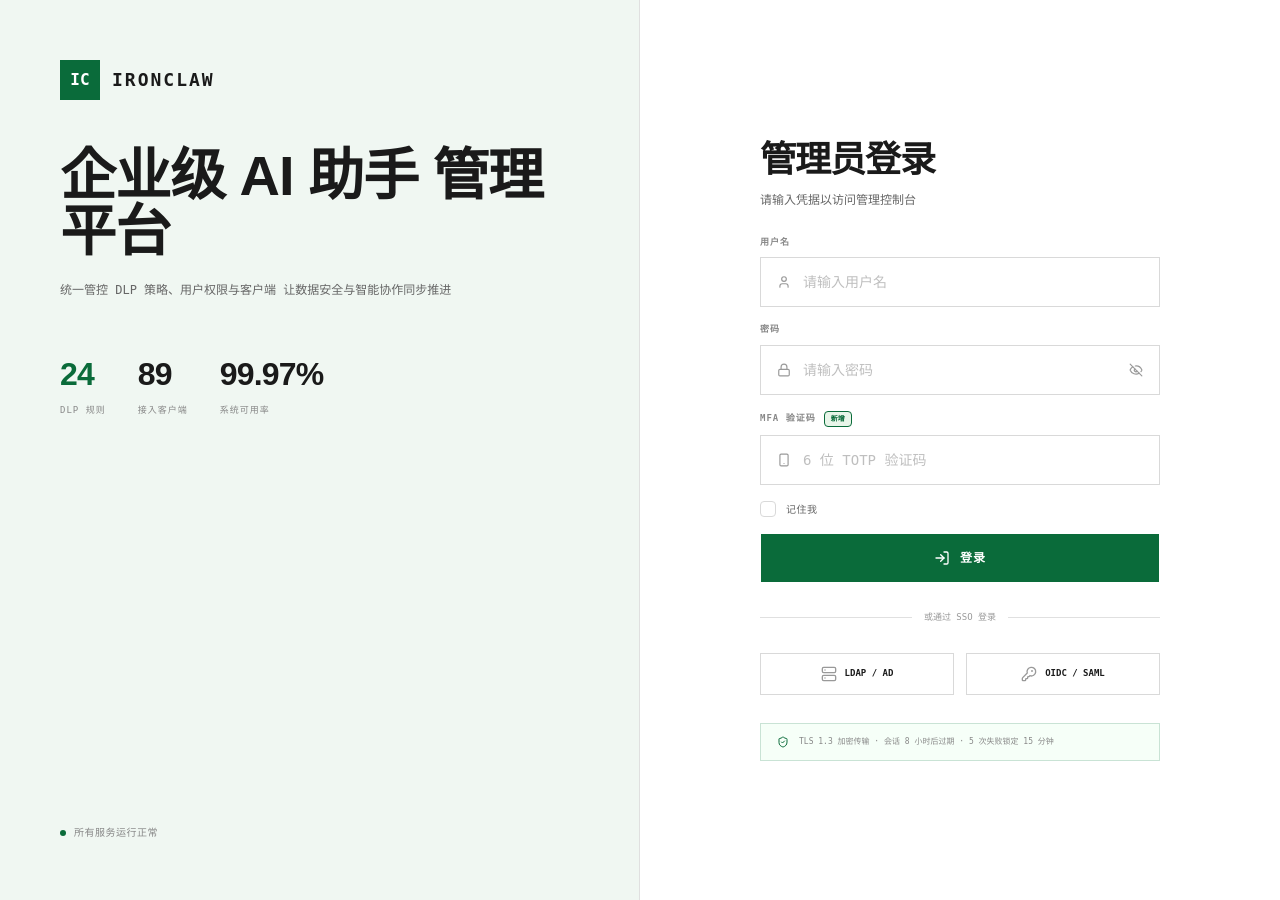
Test: LoginPage › 空密码提交时应显示验证错误
This screenshot has width=1280, height=900.
Type "admin" into the field with placeholder "请输入用户名".
click(973, 282); type("admin")  # box x1=803 y1=272 x2=1143 y2=292
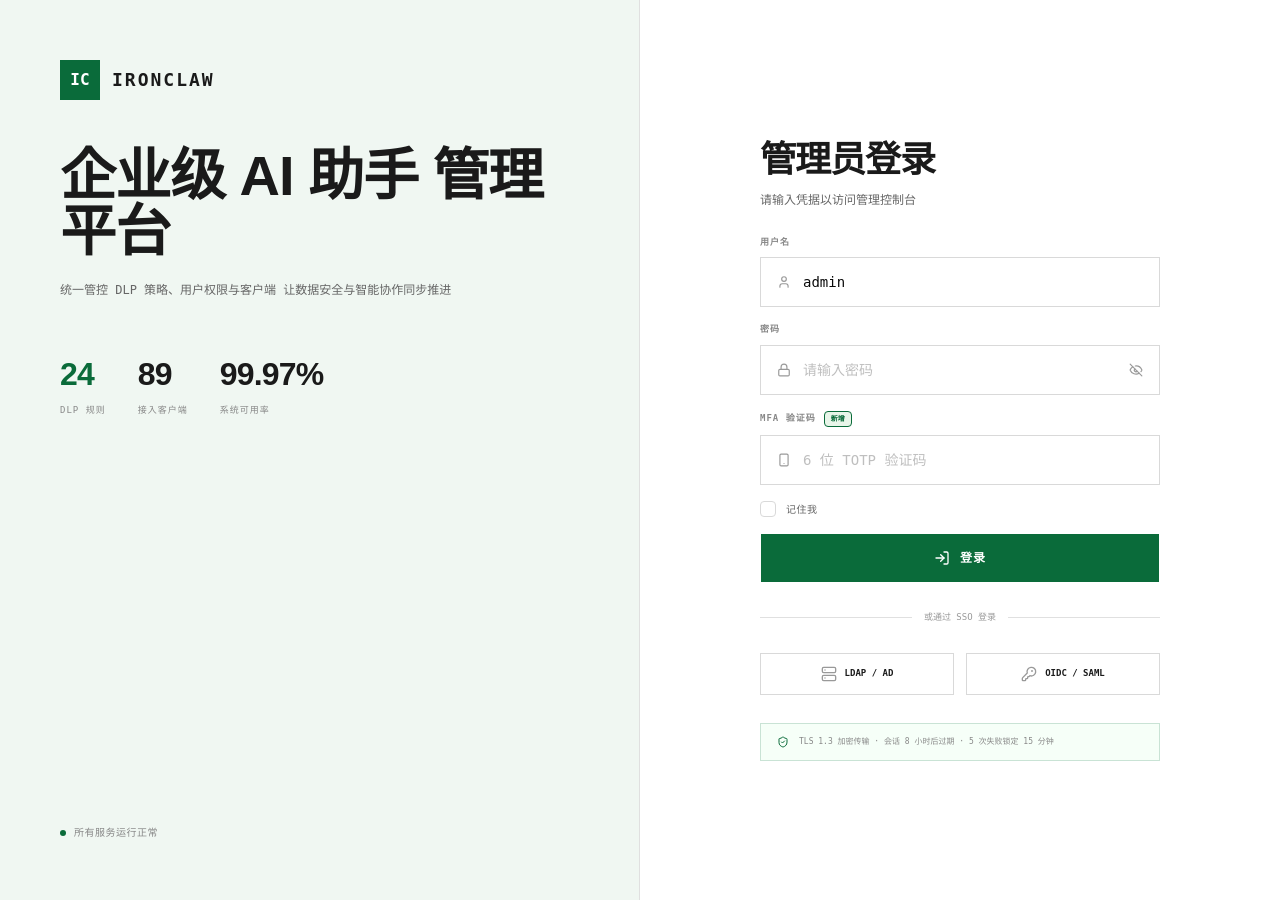
Click the button "登录".
click(960, 558)  # box x1=760 y1=533 x2=1160 y2=583
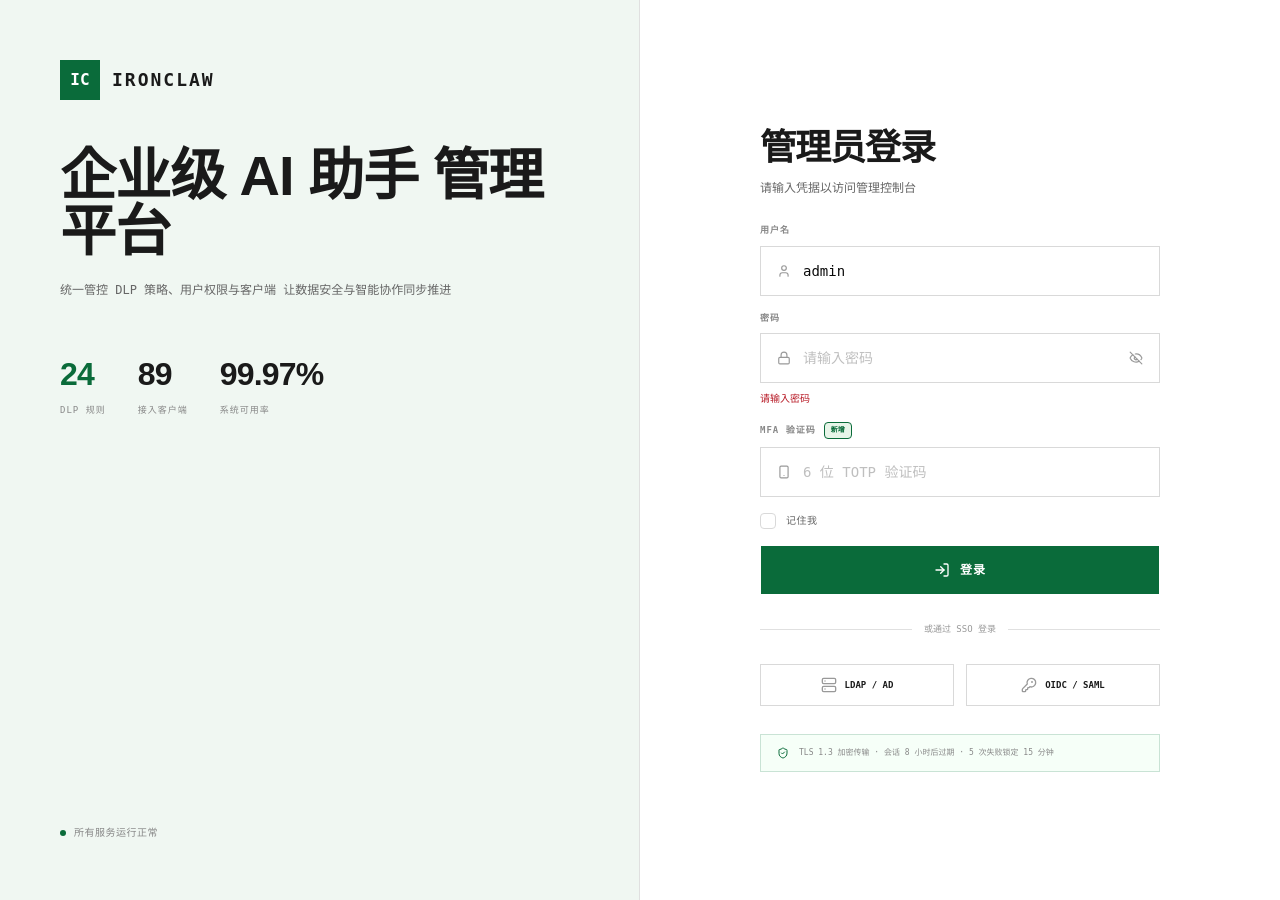
Expected: the text "请输入密码" is shown, x1=760 y1=393 x2=810 y2=404
